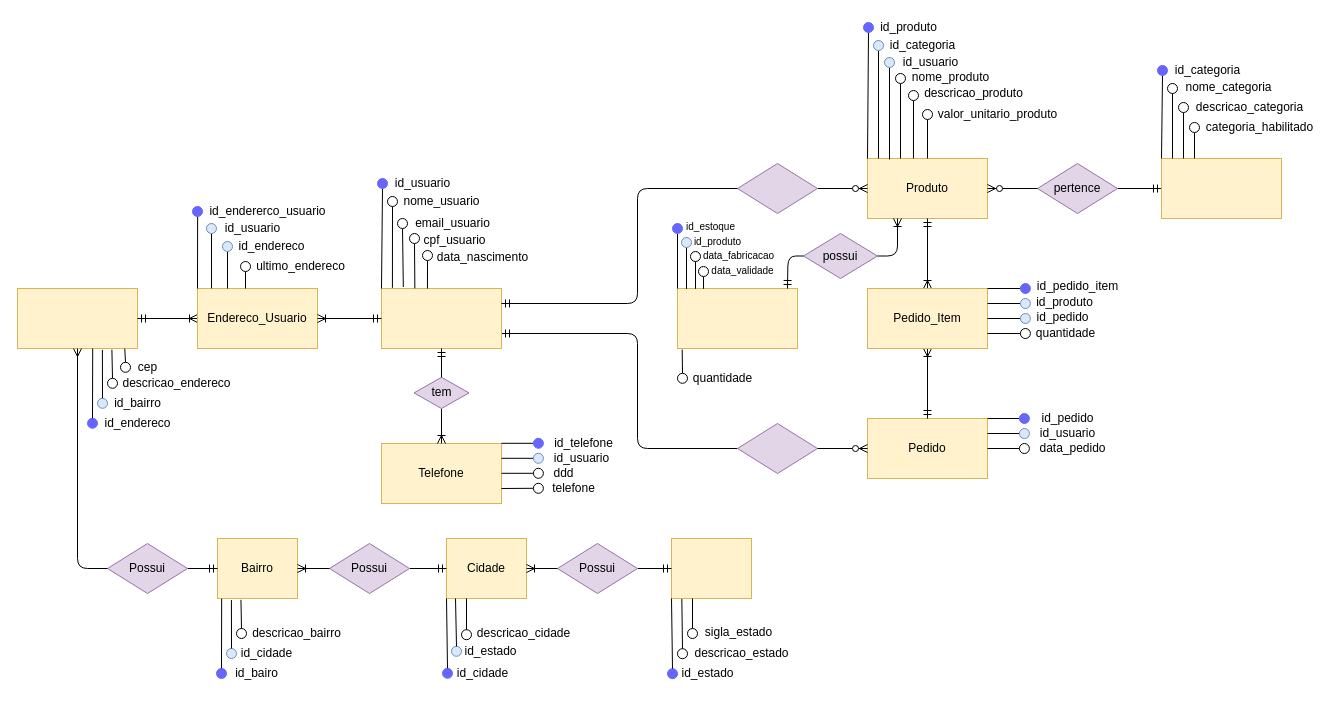
The diagram is 1337 pixels wide and 701 high, and some of its shapes have lost their labels. The box of each missing label's shape, as (x1, y1, x2, y2) in pixels:
cadastra: (736, 162, 818, 214)
Categoria: (1160, 158, 1282, 218)
Endereco: (16, 288, 138, 348)
Estado: (670, 538, 752, 598)
Estoque: (676, 288, 798, 348)
realiza: (736, 422, 818, 474)
Usuario: (380, 288, 502, 348)
